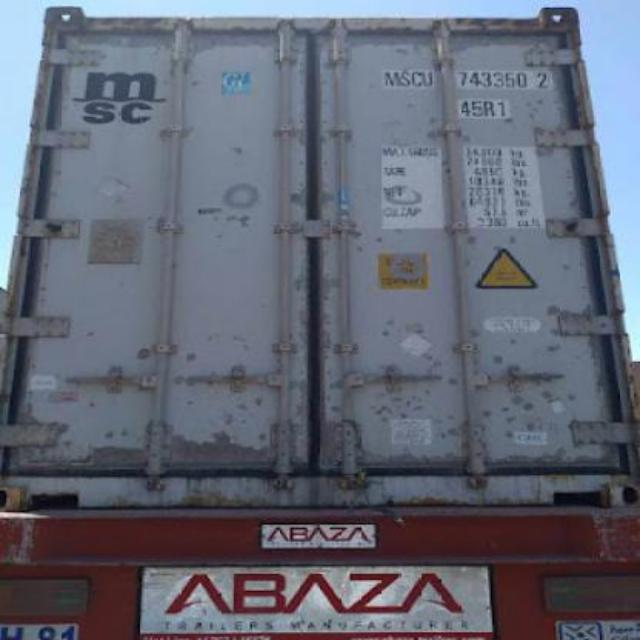0: (518, 72, 528, 86)
2: (536, 72, 548, 88)
3: (480, 72, 492, 86), (494, 72, 504, 88)
4: (470, 69, 482, 87)
5: (506, 72, 514, 88)
7: (456, 70, 468, 88)
C: (412, 70, 422, 88)
M: (384, 70, 400, 88)
S: (400, 70, 412, 88)
U: (422, 70, 434, 88)
